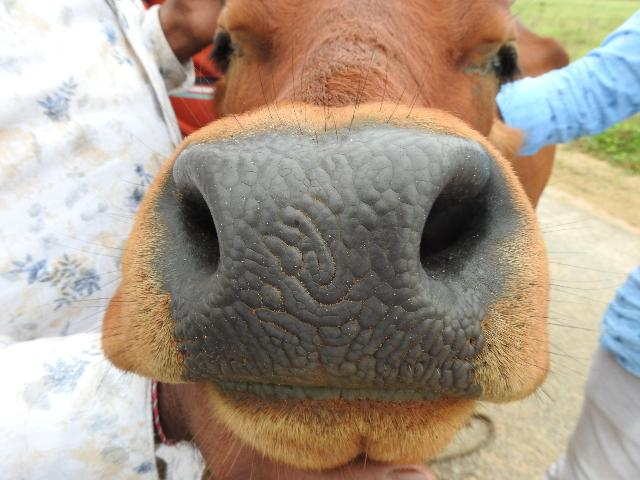Muzzle: (178, 136, 484, 392)
